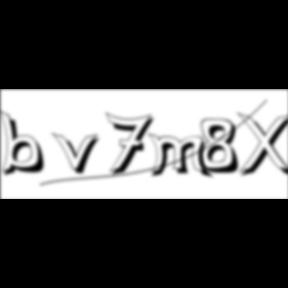7: (106, 111, 161, 179)
8: (200, 117, 246, 176)
b: (0, 109, 52, 179)
m: (148, 132, 216, 181)
v: (52, 131, 106, 177)
